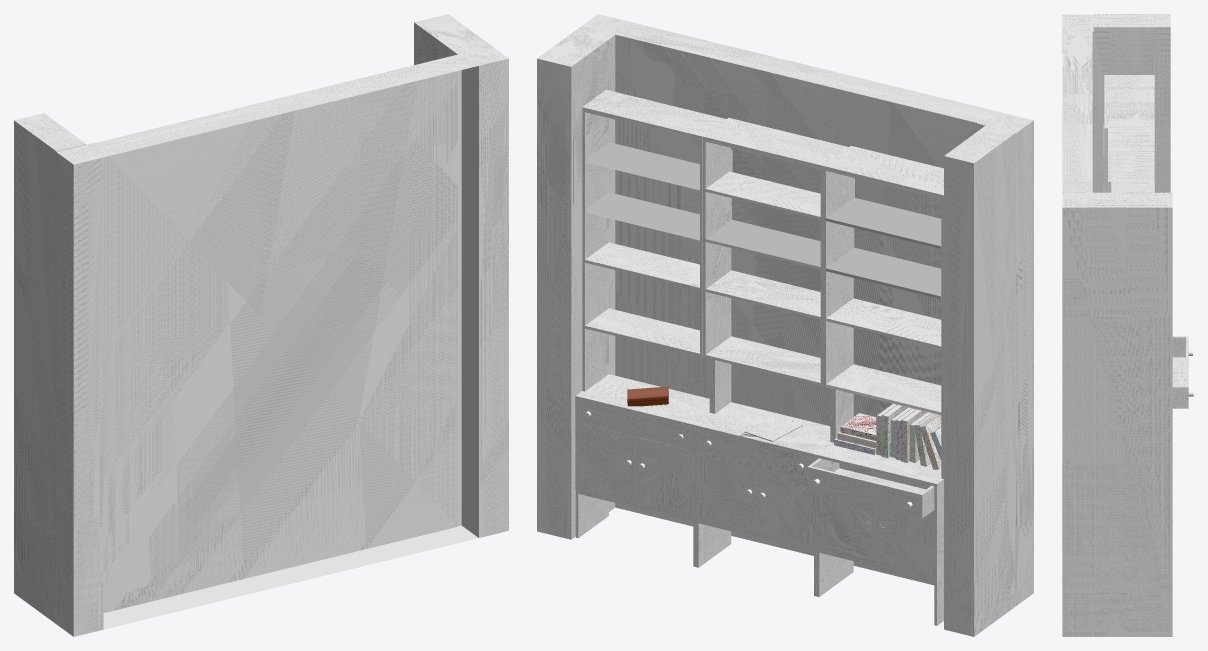
3 views of the same model, side by side, from view 1: azimuth 30°, elevation 25°; view 2: azimuth 150°, elevation 25°; view 3: azimuth 270°, elevation 25° (orthographic). The views are drawn at different scales.
Visible parts, largest first — view 1: mesh42_mesh42-geometry; view 2: mesh42_mesh42-geometry, mesh41_mesh41-geometry, mesh39_mesh39-geometry, mesh37_mesh37-geometry, mesh7_mesh7-geometry; view 3: mesh42_mesh42-geometry, mesh41_mesh41-geometry.
Part boxes in pixels (x1=…): mesh42_mesh42-geometry: x1=14, y1=14, x2=508, y2=636; mesh42_mesh42-geometry: x1=537, y1=14, x2=1033, y2=636; mesh41_mesh41-geometry: x1=575, y1=89, x2=943, y2=625; mesh39_mesh39-geometry: x1=744, y1=415, x2=802, y2=441; mesh37_mesh37-geometry: x1=627, y1=386, x2=668, y2=406; mesh7_mesh7-geometry: x1=840, y1=413, x2=876, y2=440; mesh42_mesh42-geometry: x1=1062, y1=14, x2=1172, y2=636; mesh41_mesh41-geometry: x1=1102, y1=75, x2=1193, y2=408.
Size of the model in its own units: 0.6803 by 0.7063 by 0.1959.
